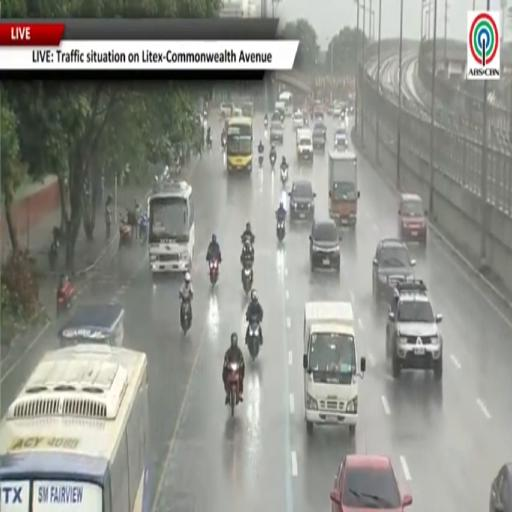bus: (0, 345, 151, 511), (148, 181, 194, 274), (227, 118, 253, 172), (279, 91, 293, 117)
car: (386, 280, 443, 380), (330, 455, 412, 511), (373, 238, 416, 300), (310, 219, 341, 273), (399, 194, 427, 244), (489, 463, 511, 511), (289, 181, 315, 221), (297, 128, 313, 163), (313, 122, 326, 150), (270, 121, 284, 143), (292, 111, 303, 130), (220, 103, 233, 117), (333, 103, 342, 118), (313, 111, 324, 121), (271, 111, 280, 122)
motorcycle: (226, 362, 240, 417), (56, 281, 74, 316), (246, 318, 260, 359), (180, 299, 191, 334), (119, 222, 133, 248), (242, 264, 253, 294), (48, 242, 58, 270), (208, 259, 218, 285), (139, 217, 148, 244), (277, 219, 285, 242), (241, 234, 253, 246), (281, 166, 288, 184), (270, 154, 276, 171), (207, 136, 212, 150), (221, 136, 226, 149), (259, 153, 263, 169), (203, 109, 208, 118), (264, 119, 267, 130)
truck: (303, 301, 365, 435), (329, 151, 360, 227)
